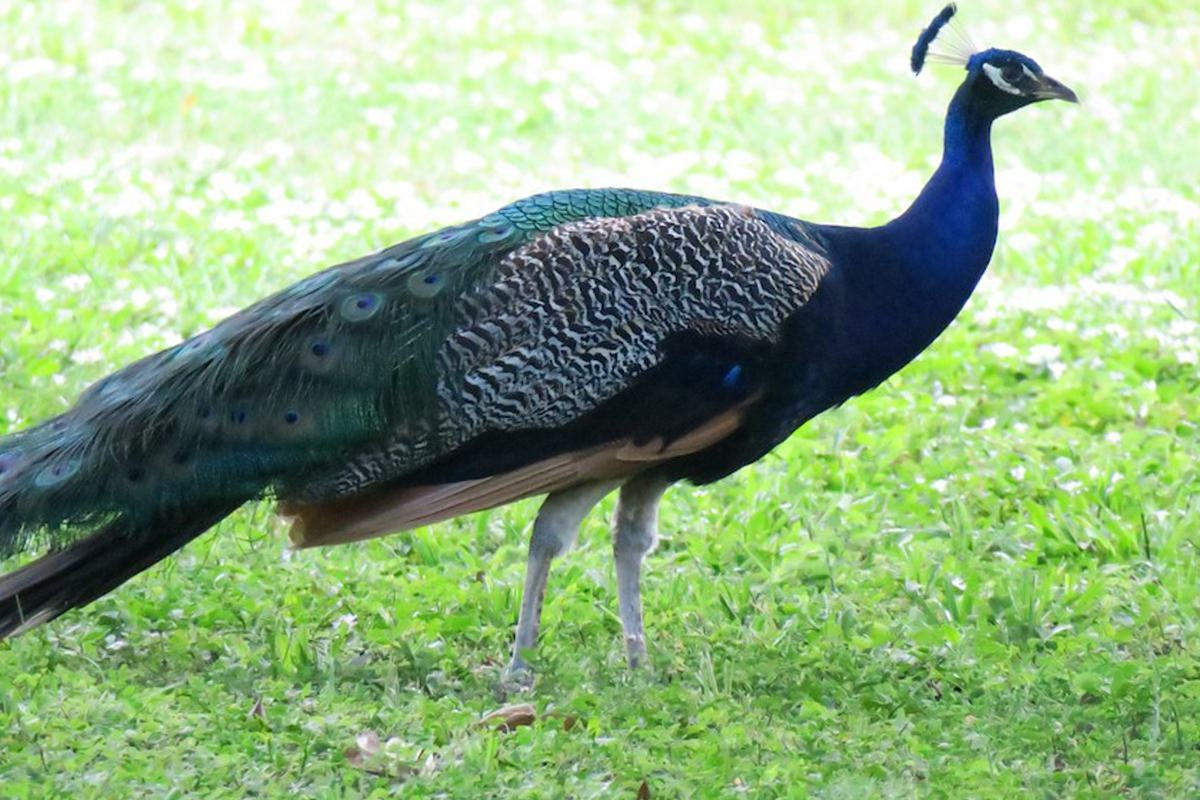peacock: (94, 40, 1071, 624)
